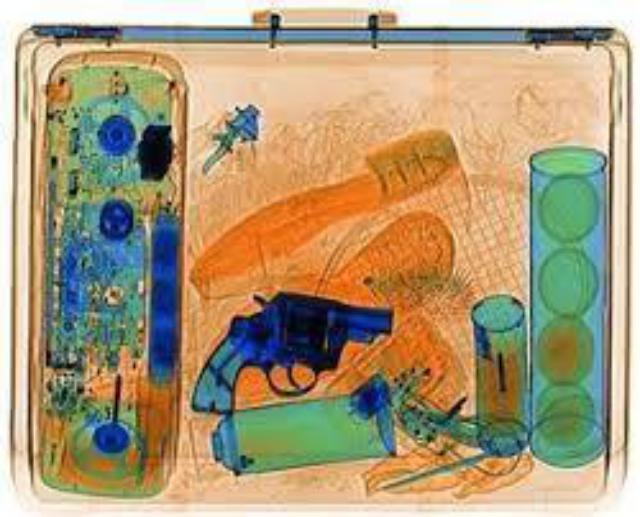Gun: (184, 284, 393, 415)
